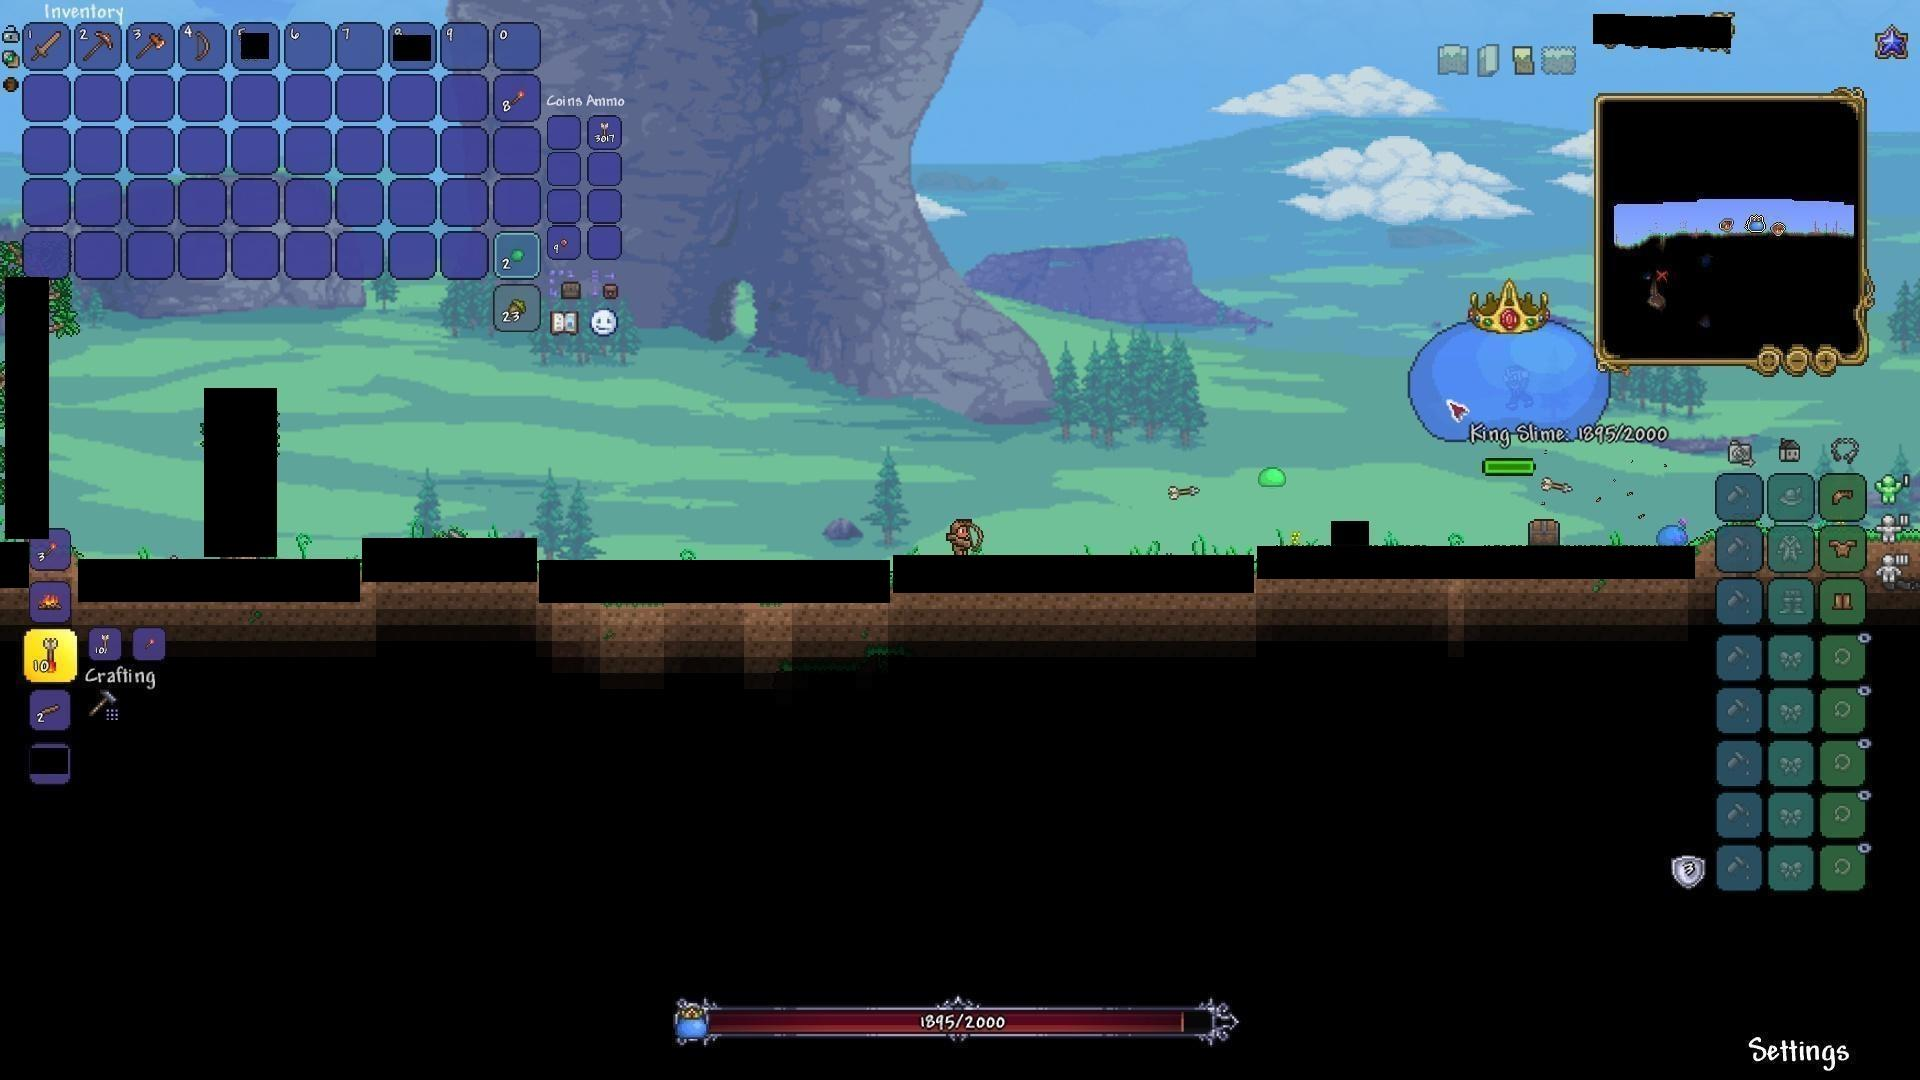breastplate: (1830, 538, 1859, 559)
helmet: (1829, 484, 1859, 510)
legs: (1832, 588, 1855, 616)
slime: (1658, 518, 1688, 547), (1257, 467, 1288, 489)
